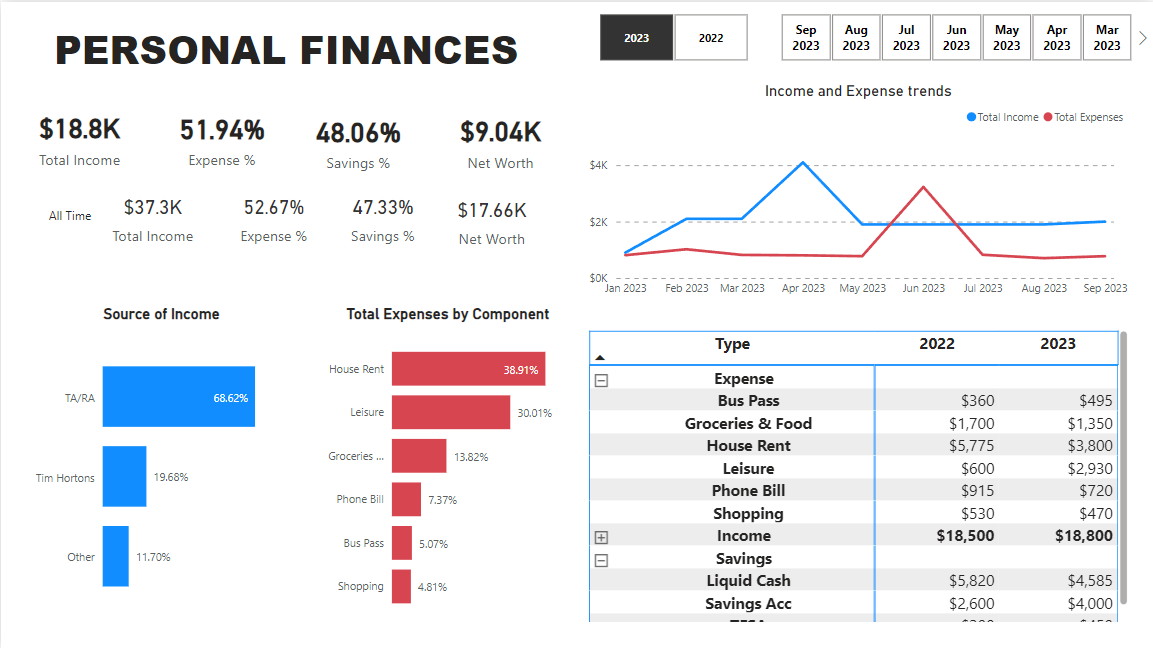

This screenshot's page, from the dashboard's own definition file:
{"tool":"powerbi","page":{"name":"Page 1","canvas":[1280,720],"ordinal":0},"visuals":[{"type":"card","fields":{"Values":["FinData.Title"]},"box":[41.7,15,550,73.3],"z":0},{"type":"card","fields":{"Values":["FinData.Total Income"]},"box":[0.6,102.8,174,92.2],"z":0,"group":"g1"},{"type":"card","fields":{"Values":["FinData.Total Income"]},"box":[96.2,198.3,143.5,80],"z":0,"group":"g3"},{"type":"slicer","fields":{"Values":["FinData.Year"]},"box":[640,6.7,213.3,65],"z":4,"group":"g4"},{"type":"slicer","fields":{"Values":["FinData.Date"]},"box":[841.7,6.7,438.3,65],"z":12,"group":"g4"},{"type":"group","id":"g1","title":"Group 3","box":[0.6,102.8,640,96.7],"z":20,"group":"g2"},{"type":"card","fields":{"Values":["FinData.Expense %"]},"box":[174.6,102.8,143.7,93.9],"z":1000,"group":"g1"},{"type":"card","fields":{"Values":["FinData.Expense %"]},"box":[239.6,198.3,126,80],"z":1000,"group":"g3"},{"type":"clusteredBarChart","title":"Total Expenses by Component","fields":{"Category":["FinData.Component"],"Y":["FinData.Total Expenses"]},"box":[345,336.7,303.3,356.7],"z":1000},{"type":"group","id":"g2","title":"Group 2","box":[0.6,102.8,640,96.7],"z":2000},{"type":"card","fields":{"Values":["FinData.Savings %"]},"box":[322.7,105.6,150,93.9],"z":2000,"group":"g1"},{"type":"card","fields":{"Values":["FinData.Savings %"]},"box":[362.9,198.3,121.7,80],"z":2000,"group":"g3"},{"type":"card","fields":{"Values":["FinData.Total Savings"]},"box":[470.9,105.6,169.7,92.2],"z":3000,"group":"g1"},{"type":"card","fields":{"Values":["FinData.Total Savings"]},"box":[484.6,201.6,120,80],"z":3000,"group":"g3"},{"type":"clusteredBarChart","title":"Source of Income","fields":{"Category":["FinData.Component"],"Y":["FinData.Total Income"]},"box":[26.7,336.7,303.3,356.7],"z":3000},{"type":"textbox","box":[38.3,221.6,76.7,38.3],"z":4000,"group":"g3"},{"type":"lineChart","title":"Income and Expense trends","fields":{"Y":["FinData.Total Income","FinData.Total Expenses"],"Category":["FinData.Date"]},"box":[648.3,88.3,608.3,248.3],"z":5000},{"type":"group","id":"g3","title":"Group 1","box":[38.3,198.3,566.7,83.3],"z":6000},{"type":"group","id":"g4","title":"Group 4","box":[640,6.7,640,65],"z":7000},{"type":"pivotTable","fields":{"Rows":["Summary.Type","Summary.Component"],"Values":["Sum(Summary.Total Amounts)"],"Columns":["Summary.Year"]},"box":[648.3,360,608.3,333.3],"z":7001}]}

Visuals, with their boxes in screenshot pixels (x1, y1, x2, y2), scaled from the page's 1280x720 canvas onto the 1153x648 screenshot:
card - FinData.Title: BBox(38, 14, 533, 79)
card - FinData.Total Income: BBox(1, 93, 157, 176)
card - FinData.Total Income: BBox(87, 178, 216, 250)
slicer - FinData.Year: BBox(576, 6, 769, 65)
slicer - FinData.Date: BBox(758, 6, 1152, 65)
"Group 3" group: BBox(1, 93, 577, 180)
card - FinData.Expense %: BBox(157, 93, 287, 177)
card - FinData.Expense %: BBox(216, 178, 329, 250)
"Total Expenses by Component" clusteredBarChart: BBox(311, 303, 584, 624)
"Group 2" group: BBox(1, 93, 577, 180)
card - FinData.Savings %: BBox(291, 95, 426, 180)
card - FinData.Savings %: BBox(327, 178, 437, 250)
card - FinData.Total Savings: BBox(424, 95, 577, 178)
card - FinData.Total Savings: BBox(437, 181, 545, 253)
"Source of Income" clusteredBarChart: BBox(24, 303, 297, 624)
textbox: BBox(34, 199, 104, 234)
"Income and Expense trends" lineChart: BBox(584, 79, 1132, 303)
"Group 1" group: BBox(34, 178, 545, 253)
"Group 4" group: BBox(576, 6, 1152, 65)
pivotTable - Summary.Type x Summary.Component: BBox(584, 324, 1132, 624)
